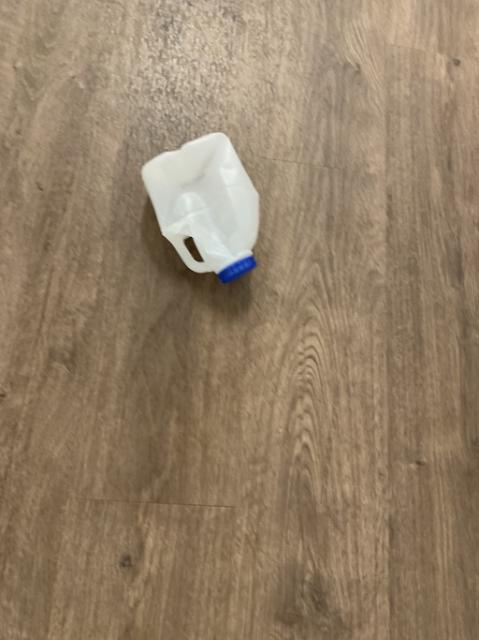plastic: (141, 131, 258, 281)
